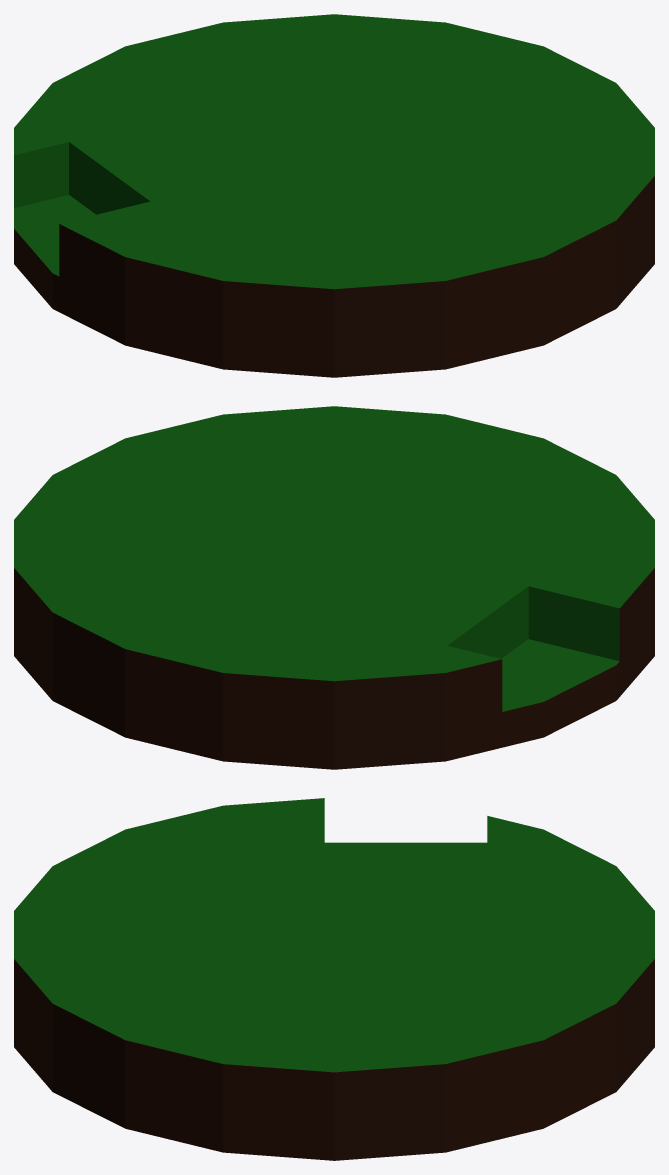
The model's file is Diorama Market Base.fbx.
3 views of the same model, one above another, from view 1: azimuth 30°, elevation 25°; view 2: azimuth 150°, elevation 25°; view 3: azimuth 270°, elevation 25° (orthographic).
Visible parts, largest first — view 1: Floor; view 2: Floor; view 3: Floor.
Boxes of the visible parts, left/top/right/bottom form: Floor: left=14, top=14, right=654, bottom=377; Floor: left=14, top=406, right=654, bottom=769; Floor: left=14, top=798, right=654, bottom=1160.
Bounding box in the file's own units: 787 × 118 × 775.
